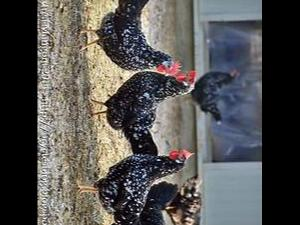hen: (89, 68, 198, 156), (76, 146, 196, 225), (78, 0, 182, 75), (188, 66, 242, 124)
